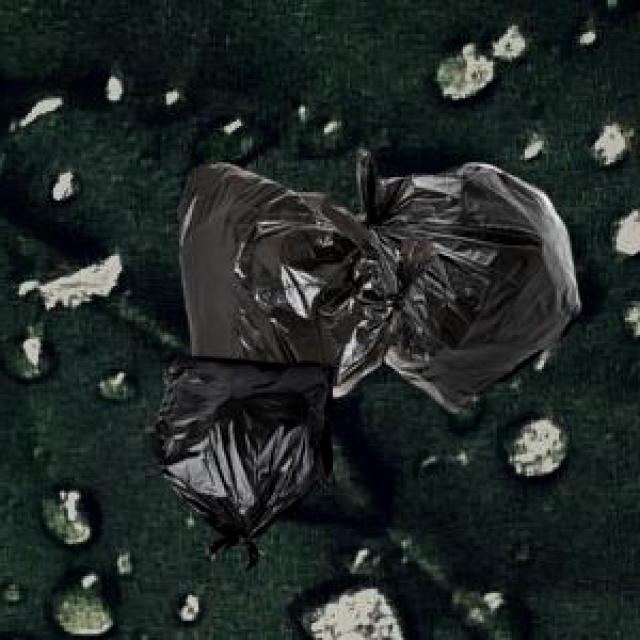Trashbag: (171, 159, 403, 403), (358, 162, 581, 415), (149, 351, 339, 568)
